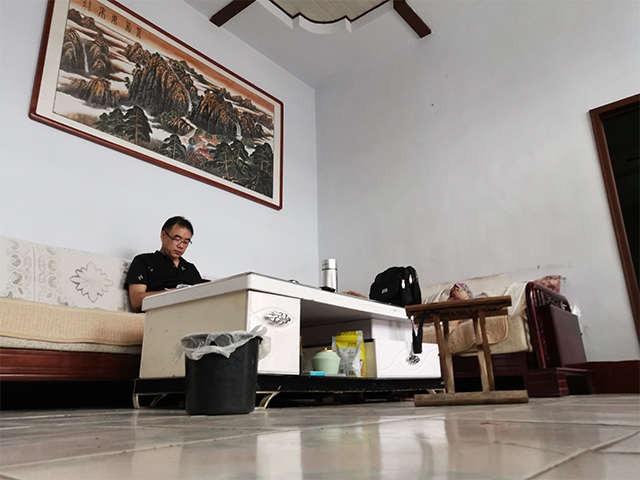sofa: (1, 232, 147, 406)
stool: (403, 294, 532, 409)
table: (128, 269, 446, 410)
trashcan: (180, 331, 265, 417)
